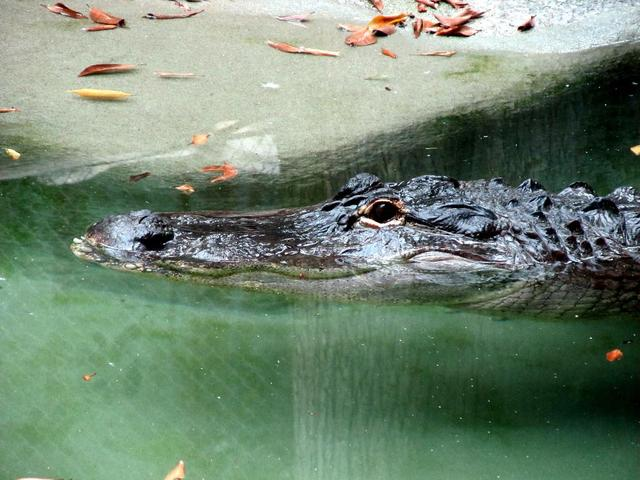crocodile: (43, 135, 640, 349)
